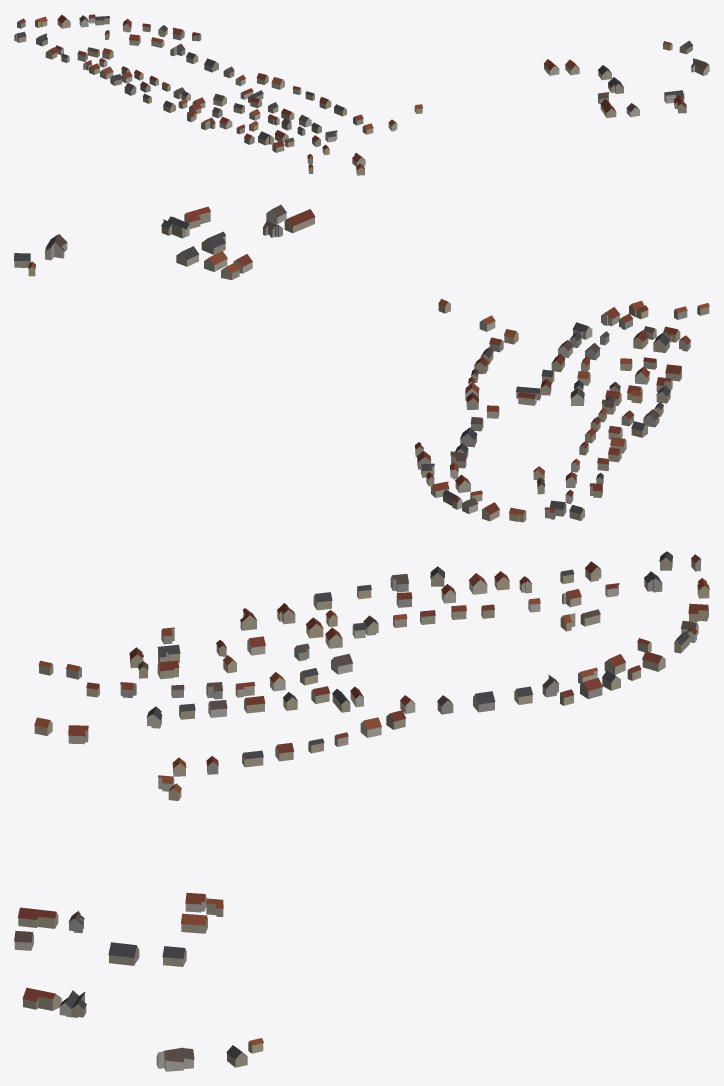
The picture shows the model from 3 angles, top to bottom: view 1: azimuth 30°, elevation 25°; view 2: azimuth 150°, elevation 25°; view 3: azimuth 270°, elevation 25°; orthographic projection. The views are drawn at different scales.
Parts seen in each view (by area): view 1: buildings; view 2: buildings; view 3: buildings.
Part boxes in pixels (x1=…): buildings: x1=14, y1=14, x2=709, y2=175; buildings: x1=14, y1=204, x2=709, y2=522; buildings: x1=14, y1=551, x2=709, y2=1071.
Bounding box in the file's own units: 659 × 70.13 × 448.
